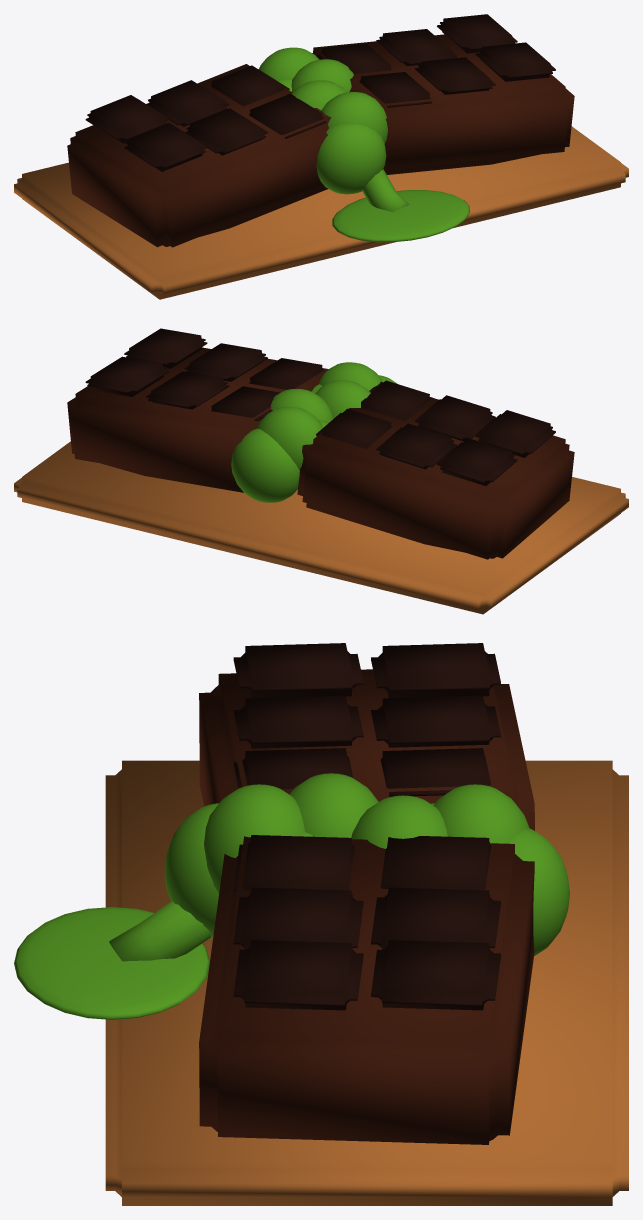
File: DubaiChocolate.fbx
3 views of the same model, one above another, from view 1: azimuth 30°, elevation 25°; view 2: azimuth 150°, elevation 25°; view 3: azimuth 270°, elevation 25° (orthographic). The views are drawn at different scales.
Visible parts, largest first — view 1: DubaiChocolate; view 2: DubaiChocolate; view 3: DubaiChocolate.
Boxes of the visible parts, bbox=[...] form: DubaiChocolate: bbox=[14, 14, 628, 299]; DubaiChocolate: bbox=[14, 328, 628, 614]; DubaiChocolate: bbox=[14, 643, 628, 1205].
Bounding box in the file's own units: 3 × 0.725 × 1.88.
Materials: 1 (1 with a texture image).
